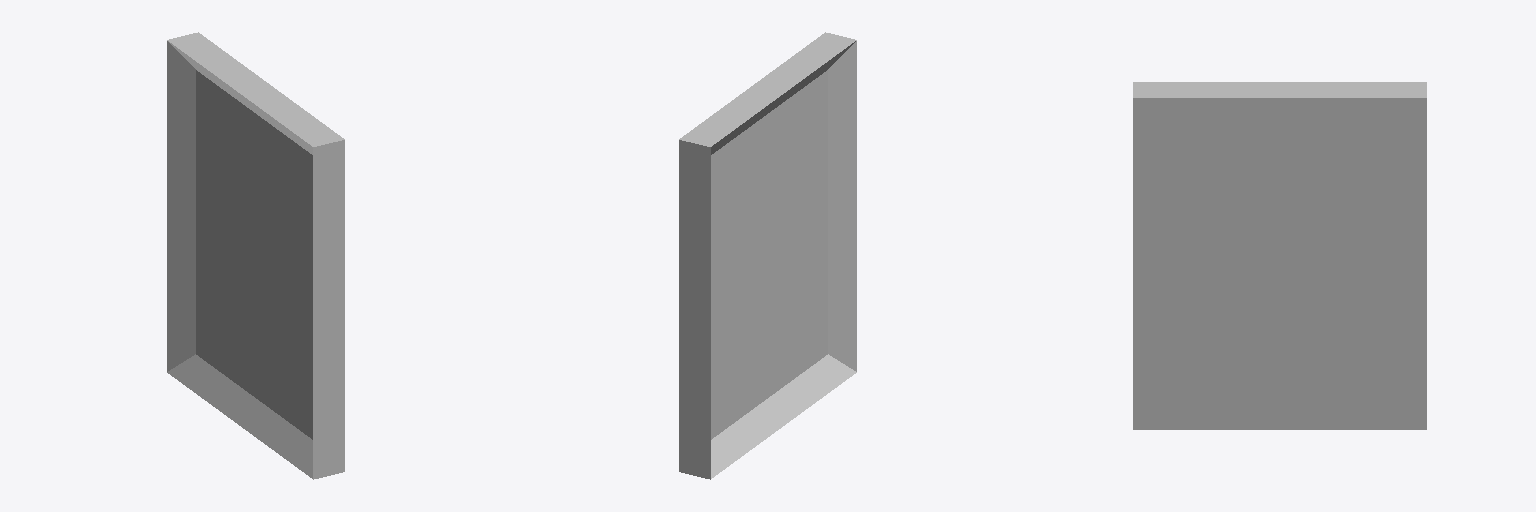
The model's file is spk_picture.obj.
The picture shows the model from 3 angles: view 1: azimuth 30°, elevation 25°; view 2: azimuth 150°, elevation 25°; view 3: azimuth 270°, elevation 25°; orthographic projection.
Visible parts, largest first — view 1: Box001; view 2: Box001; view 3: Box001.
Part boxes in pixels (x1,y1,x2,y2): Box001: (167, 32, 344, 479); Box001: (679, 32, 856, 479); Box001: (1133, 82, 1426, 429).
Bounding box in the file's own units: 0.5 × 5 × 4.